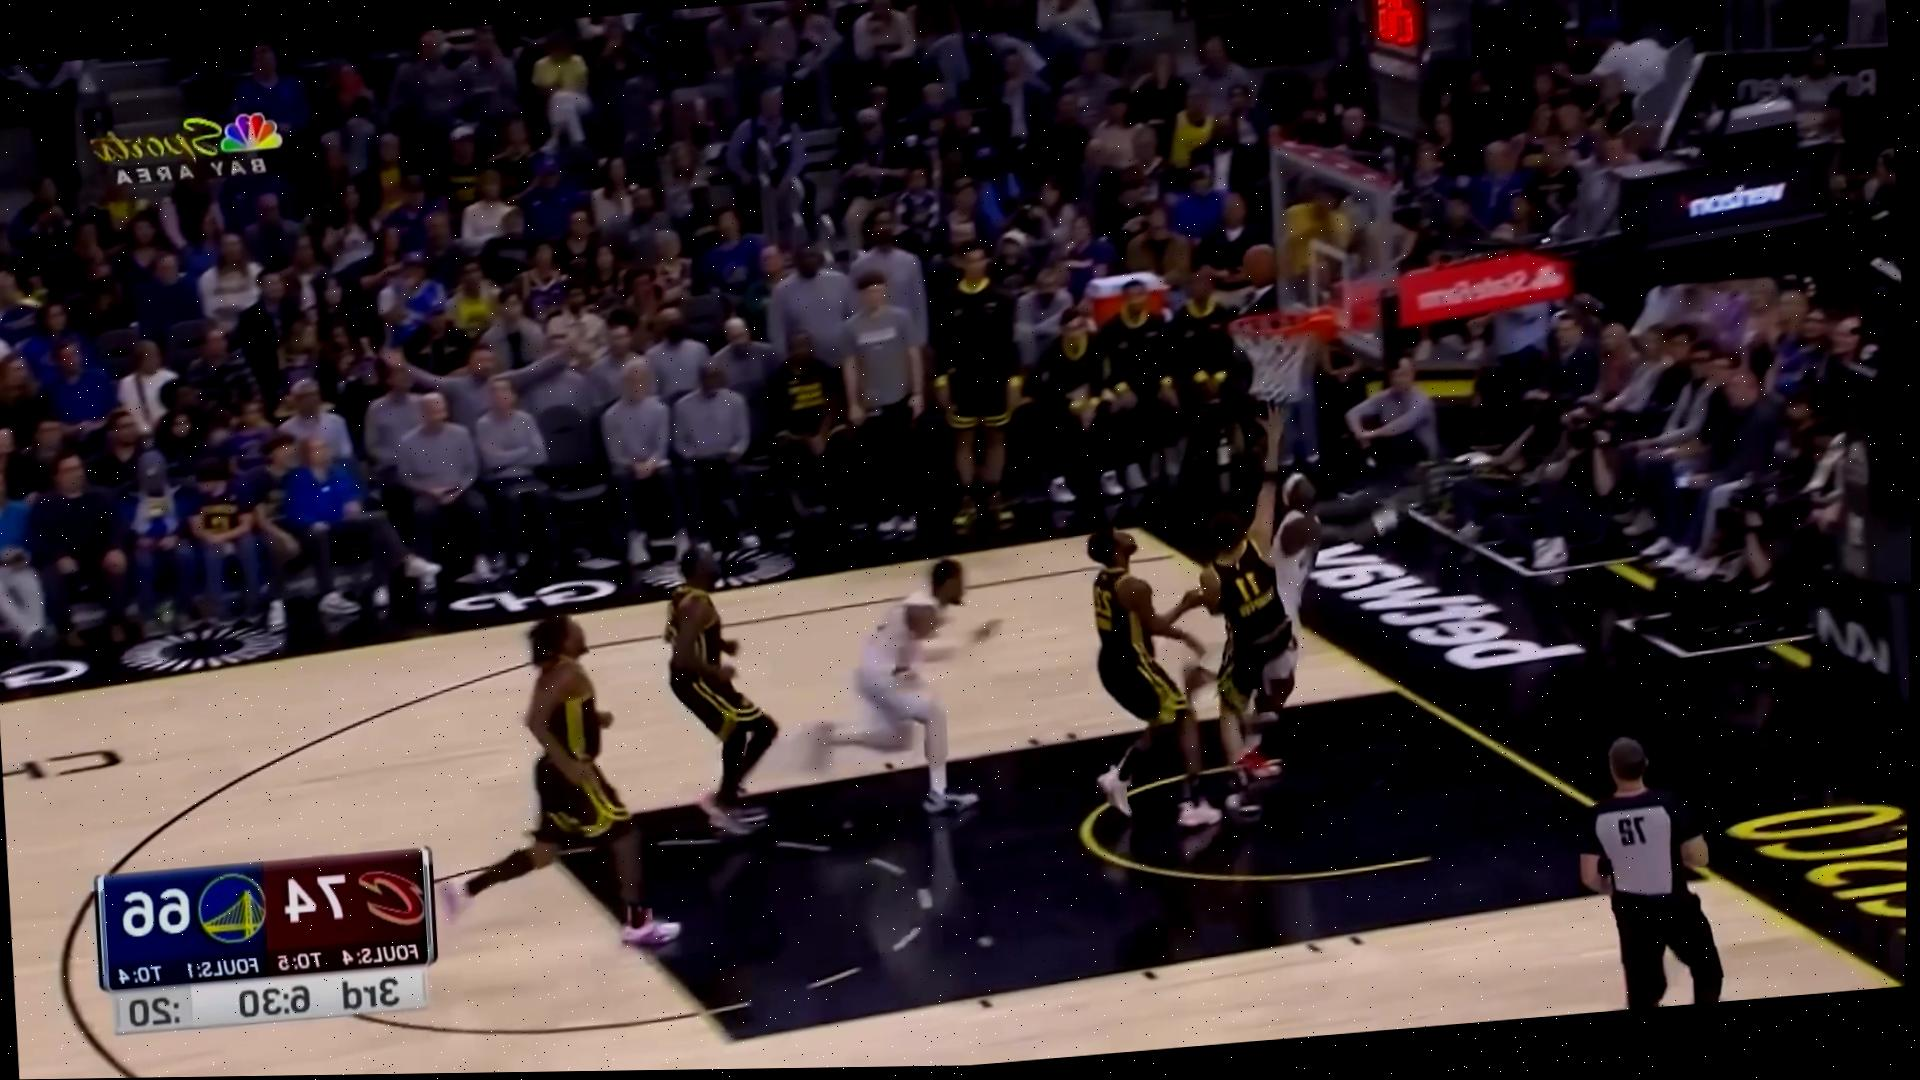foul: (1097, 429, 1411, 832)
